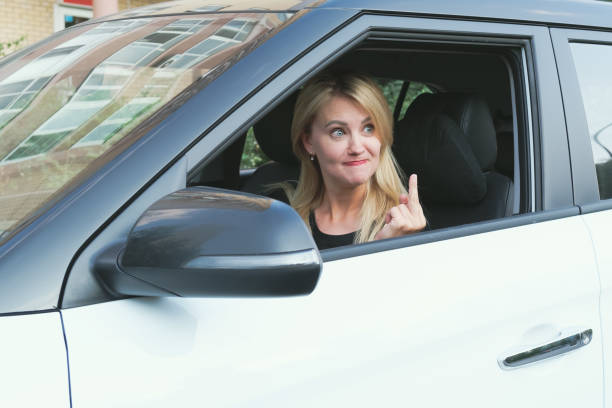insulting_gesture: (382, 171, 428, 241)
